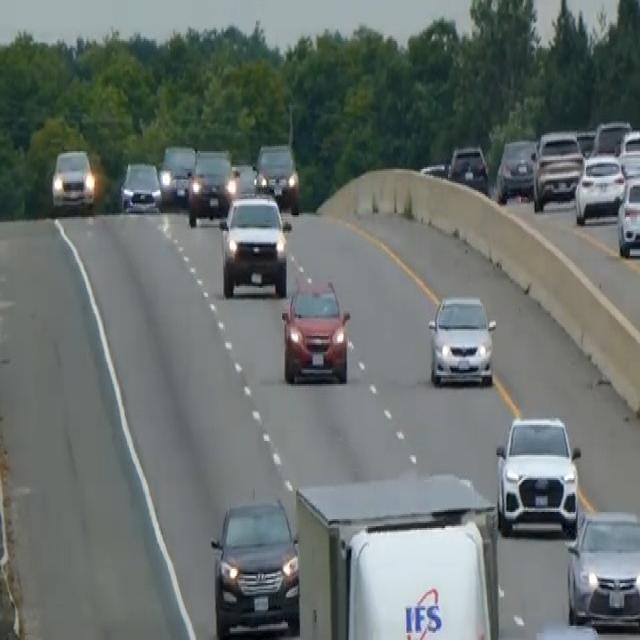car: (494, 412, 581, 537), (565, 507, 639, 631), (280, 272, 351, 384), (427, 292, 497, 388), (531, 128, 584, 210), (186, 147, 236, 225), (574, 151, 625, 224), (254, 140, 300, 213), (50, 146, 95, 213), (496, 135, 537, 203), (158, 140, 196, 204), (119, 158, 162, 214), (447, 142, 489, 194), (616, 170, 639, 258), (591, 118, 631, 156), (525, 620, 608, 638), (229, 158, 258, 198), (619, 126, 639, 176)
jeep: (209, 494, 300, 638), (217, 190, 289, 299)
lorry: (293, 470, 501, 638)
